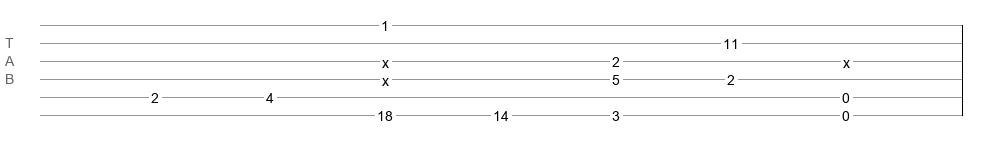0: (842, 90, 850, 100), (842, 108, 850, 118)
1: (381, 18, 389, 28)
11: (723, 36, 739, 46)
14: (493, 108, 509, 118)
18: (377, 108, 393, 118)
2: (151, 90, 159, 100), (612, 54, 620, 64), (727, 72, 735, 82)
3: (612, 108, 620, 118)
4: (266, 90, 274, 100)
5: (612, 72, 620, 82)
x: (382, 55, 389, 63), (382, 73, 389, 81), (843, 55, 850, 63)
